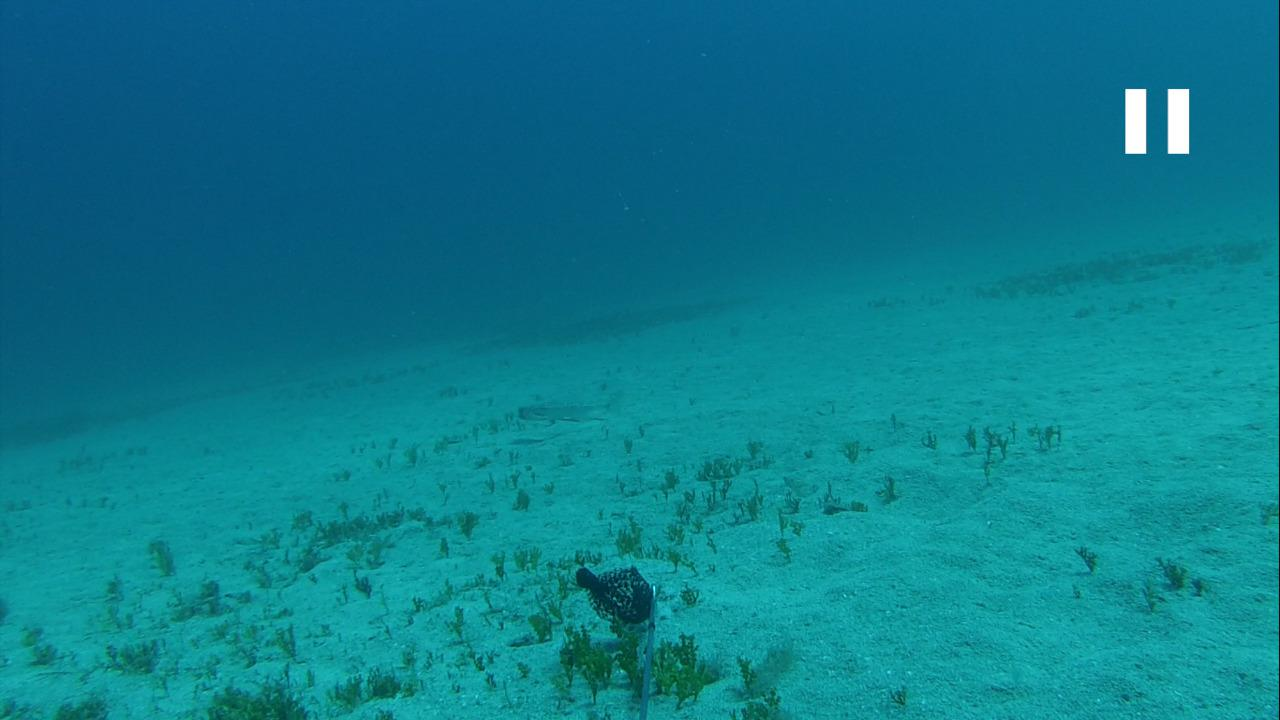dactylopterus: (499, 387, 633, 441)
